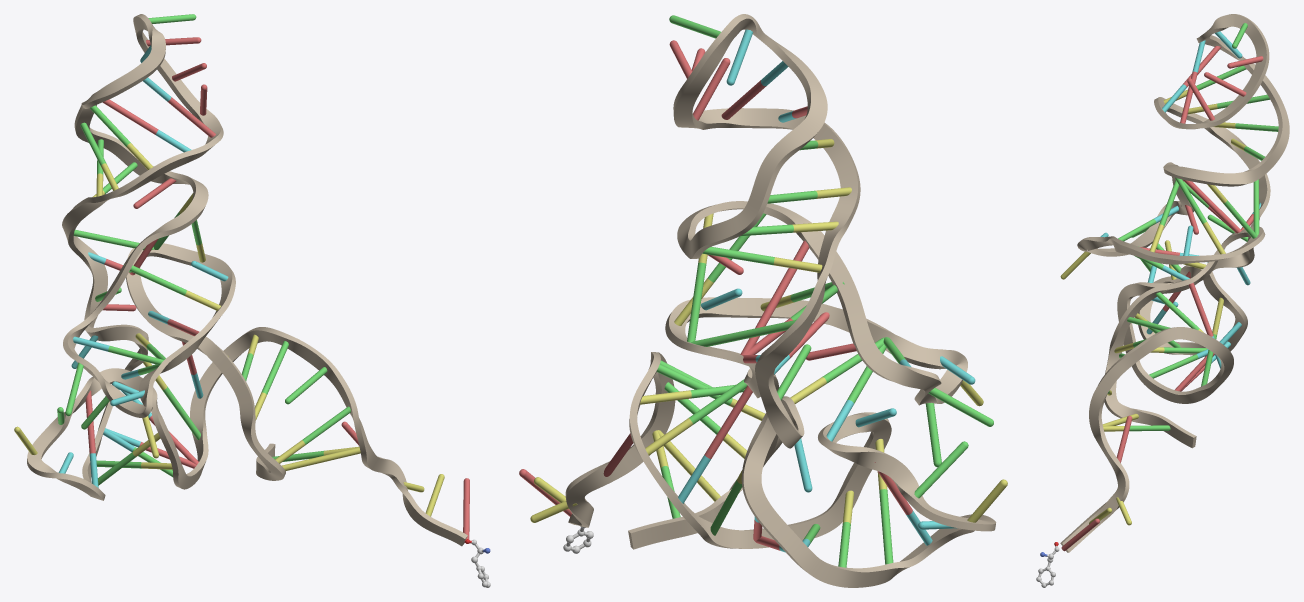
The model's file is rna_3d.glb.
The picture shows the model from 3 angles, left to right: view 1: azimuth 30°, elevation 25°; view 2: azimuth 150°, elevation 25°; view 3: azimuth 270°, elevation 25°; orthographic projection. The views are drawn at different scales.
Parts seen in each view (by area): view 1: ribbons, nucleotides; view 2: ribbons, nucleotides; view 3: ribbons, nucleotides.
Boxes of the visible parts, x1,y1,x2,y2 form: ribbons: (27,14,467,546); nucleotides: (14,14,469,542); ribbons: (565,14,996,587); nucleotides: (519,15,1007,567); ribbons: (1060,14,1289,552); nucleotides: (1060,23,1278,551).
Size of the model in its own units: 67.43 by 85.23 by 41.21.
